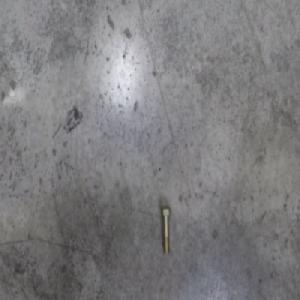Bolt: (160, 206, 172, 256)
